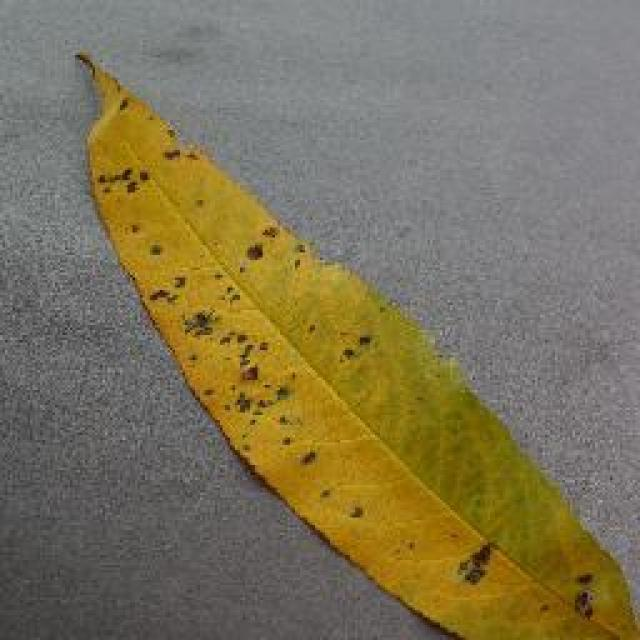Peach_Bacterial_Spot: (105, 100, 438, 528)
